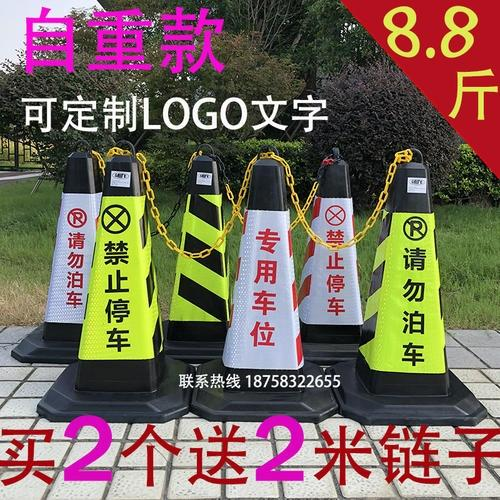cone_barrel: (63, 144, 179, 409), (355, 153, 465, 408), (218, 162, 314, 380), (24, 152, 109, 357), (166, 150, 239, 357), (297, 153, 367, 349)
